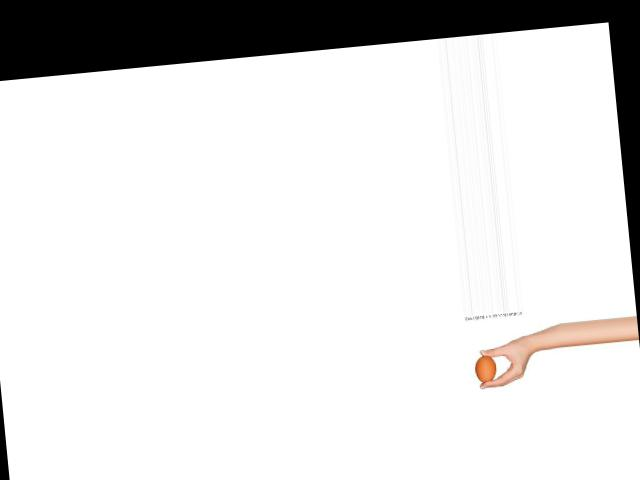egg: (473, 354, 496, 384)
